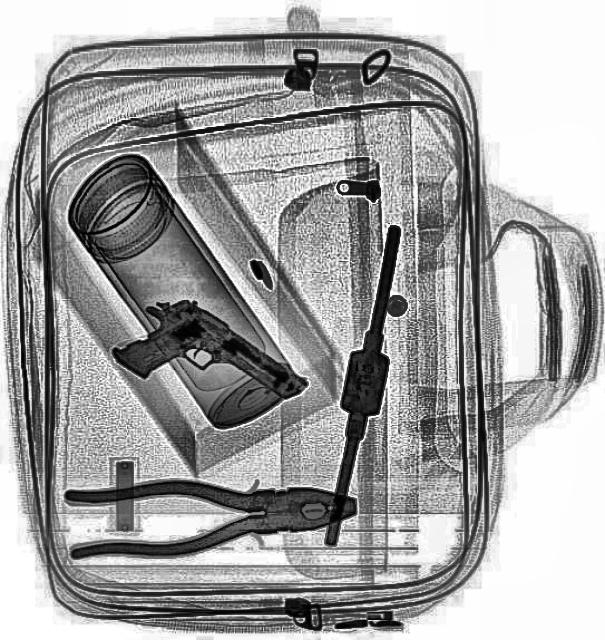Gun: (104, 276, 312, 458)
Pliers: (62, 468, 358, 562)
